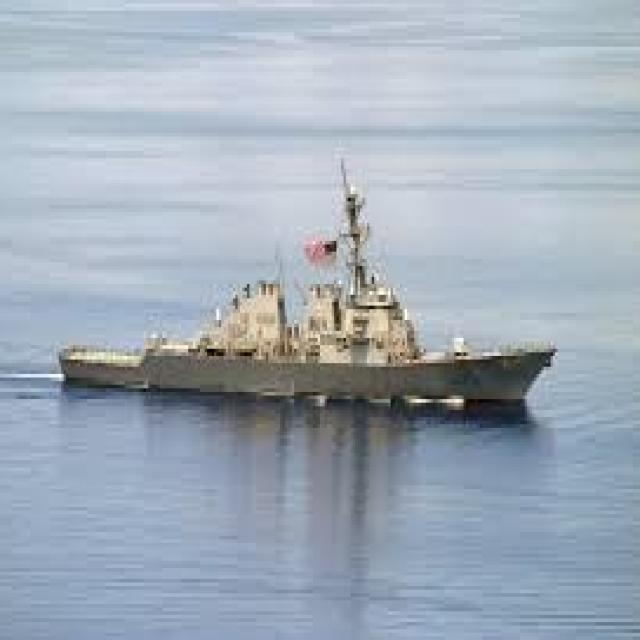navalvessels: (49, 163, 572, 427)
